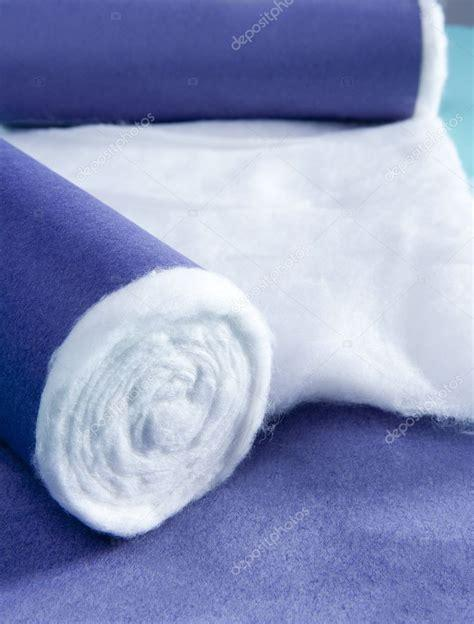cotton: (26, 64, 469, 516)
